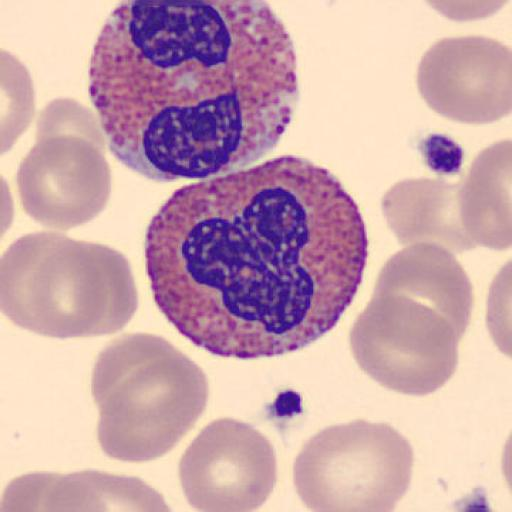Platelet: (415, 129, 467, 178)
RBC: (14, 230, 137, 340), (96, 354, 210, 464), (291, 416, 416, 512), (347, 293, 461, 397), (2, 232, 108, 341), (370, 239, 475, 345), (177, 414, 279, 512), (91, 330, 199, 422), (15, 133, 113, 232), (414, 32, 512, 127), (378, 174, 478, 256), (60, 236, 139, 339), (2, 229, 72, 334), (456, 135, 512, 253), (42, 467, 178, 512), (35, 95, 106, 162), (1, 48, 37, 158), (1, 467, 72, 512), (483, 254, 512, 363), (43, 467, 108, 512), (416, 0, 512, 24), (499, 407, 512, 512), (1, 170, 16, 246)
WBC: (141, 155, 371, 360), (88, 0, 302, 181)
